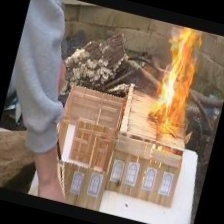fire: (143, 23, 212, 142)
